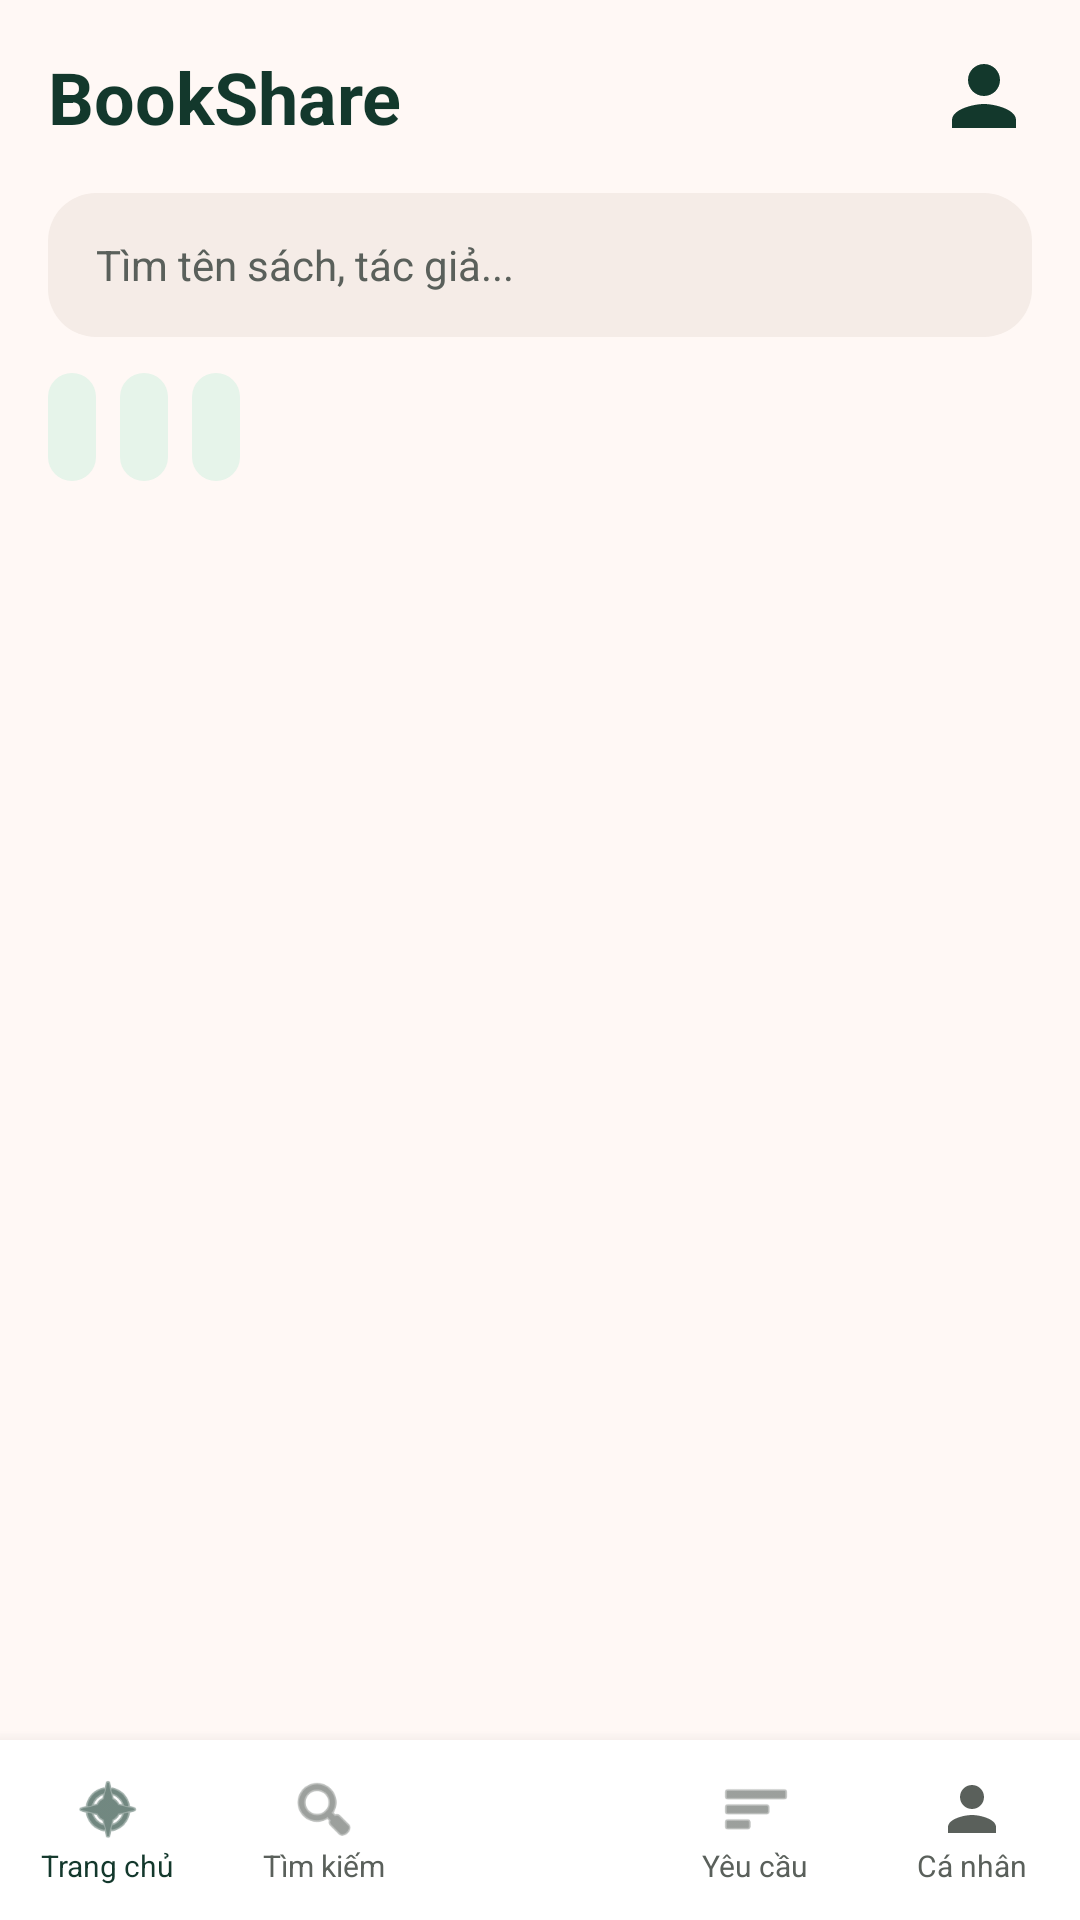

Icon bounding boxes for this 1080px x 1920px phone screenshot, format (x1, y1, x2, y2):
person: (952, 64, 1016, 128)
